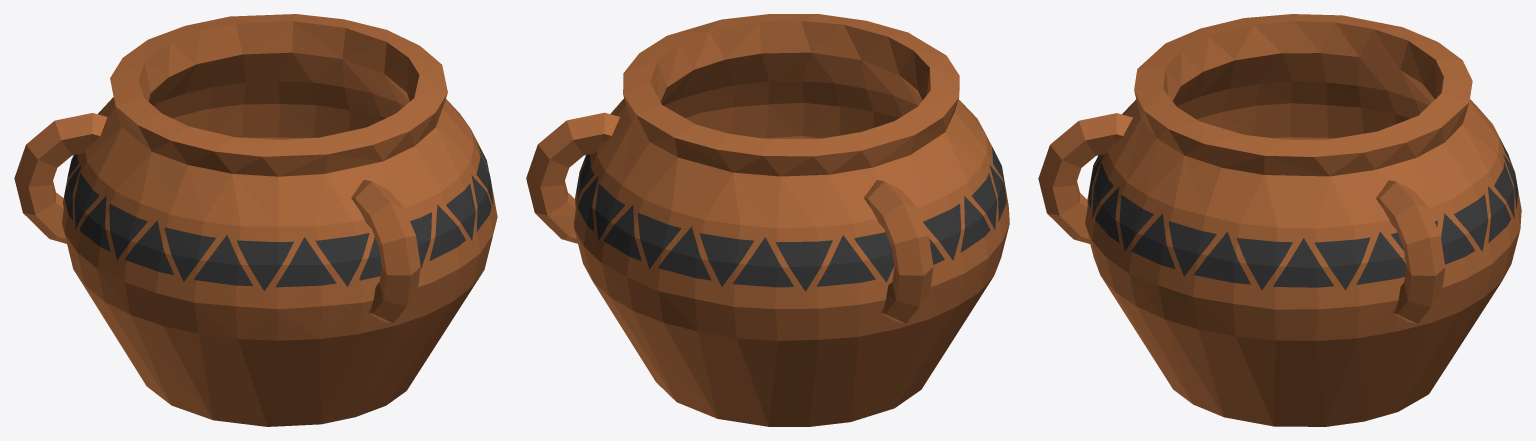
File: Pottery 19_2.fbx
3 renders of one model, left to right at view 1: azimuth 30°, elevation 25°; view 2: azimuth 150°, elevation 25°; view 3: azimuth 270°, elevation 25°, orthographic.
Visible parts, largest first — view 1: Pottery 19_2; view 2: Pottery 19_2; view 3: Pottery 19_2.
Boxes of the visible parts, x1,y1,x2,y2 form: Pottery 19_2: (14,14,497,426); Pottery 19_2: (526,14,1009,426); Pottery 19_2: (1038,14,1521,426).
Bounding box in the file's own units: 76.29 × 52.88 × 80.32.
